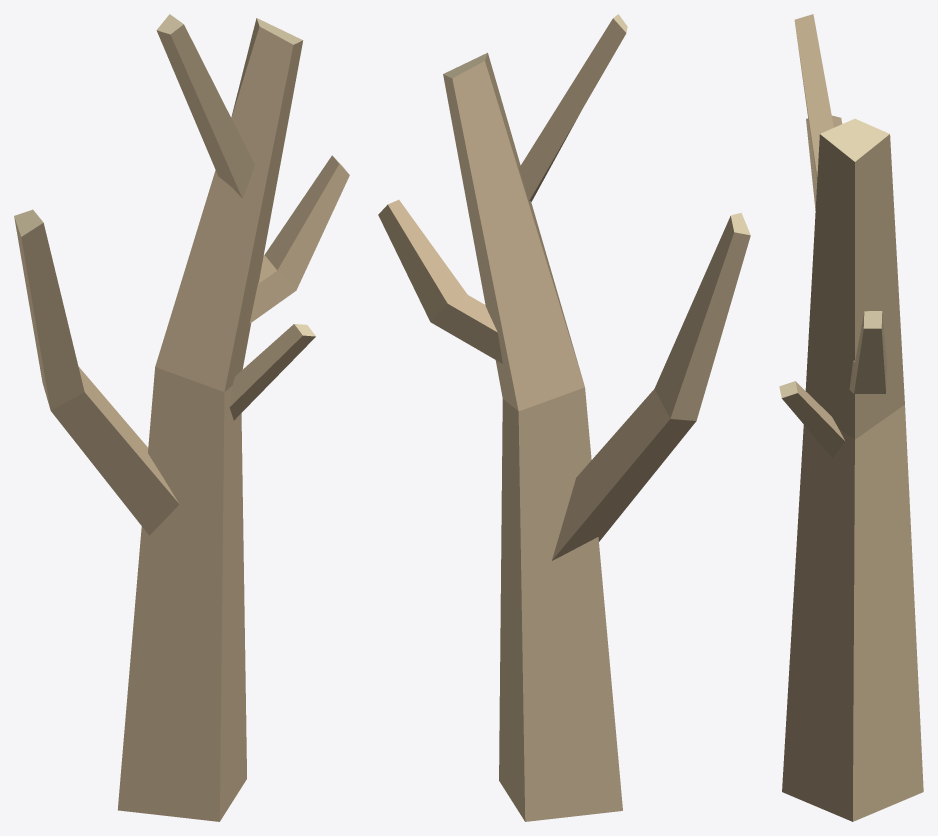
File: TB_D_Env_DeadTreeB_E.FBX
3 renders of one model, left to right at view 1: azimuth 30°, elevation 25°; view 2: azimuth 150°, elevation 25°; view 3: azimuth 270°, elevation 25°, orthographic. The views are drawn at different scales.
Parts seen in each view (by area): view 1: TB_D_Env_DeadTreeB_E; view 2: TB_D_Env_DeadTreeB_E; view 3: TB_D_Env_DeadTreeB_E.
Part boxes in pixels (left/top/right/bottom): TB_D_Env_DeadTreeB_E: left=14, top=14, right=349, bottom=821; TB_D_Env_DeadTreeB_E: left=378, top=14, right=750, bottom=821; TB_D_Env_DeadTreeB_E: left=779, top=14, right=923, bottom=821.
Size of the model in its own units: 2.93 by 6.34 by 1.09.
